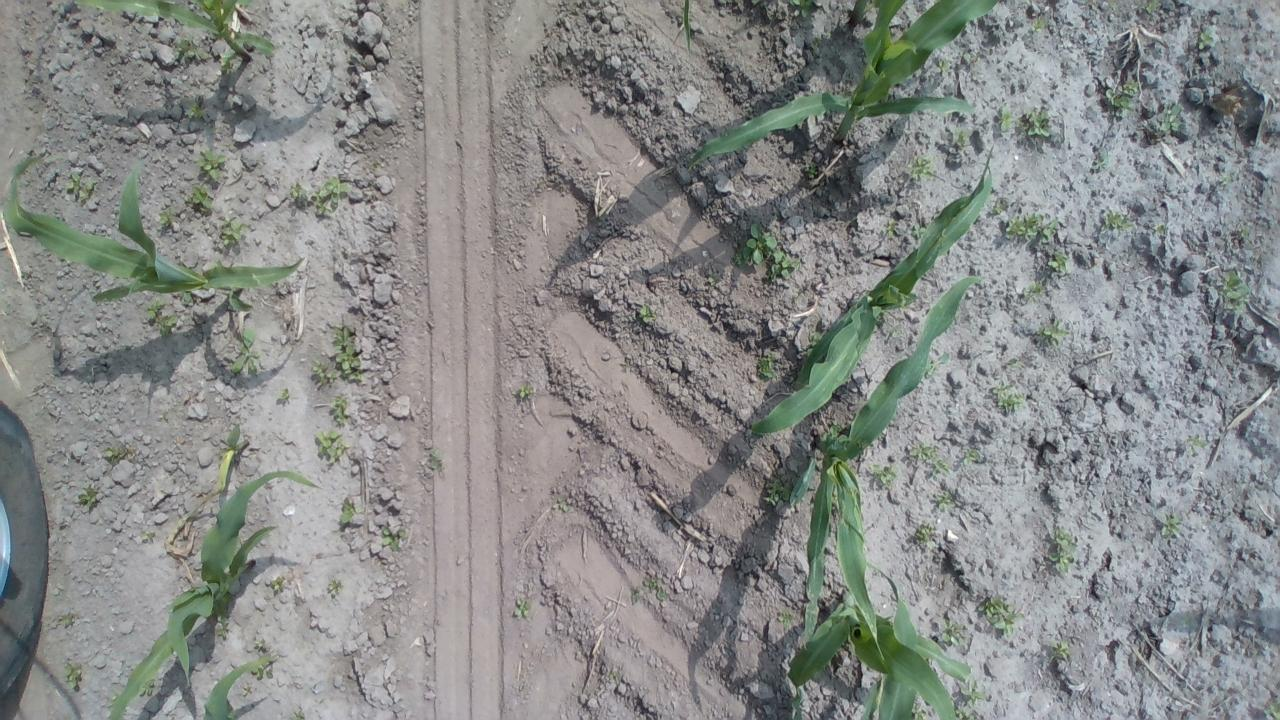Maize: (776, 273, 993, 664), (744, 147, 1002, 443), (100, 431, 338, 720), (682, 0, 1030, 186), (4, 147, 319, 317), (786, 594, 988, 720), (81, 0, 298, 71), (180, 652, 293, 720)
Weeds: (729, 219, 802, 284), (310, 326, 365, 390), (286, 174, 354, 216), (1206, 261, 1246, 316), (992, 105, 1054, 140), (1006, 212, 1064, 248), (980, 590, 1020, 636), (1042, 530, 1080, 576), (51, 168, 98, 205), (230, 328, 264, 376), (312, 431, 348, 473), (1096, 206, 1140, 238), (935, 612, 970, 652), (56, 654, 90, 694), (988, 378, 1026, 413), (196, 148, 230, 187), (208, 592, 234, 642), (143, 301, 180, 336), (325, 393, 358, 432), (1104, 81, 1140, 116), (186, 93, 222, 127), (633, 576, 672, 606), (378, 520, 407, 557), (102, 437, 135, 469), (764, 472, 794, 507), (1154, 101, 1184, 135), (904, 150, 938, 180), (170, 34, 204, 64), (338, 494, 364, 530), (185, 188, 218, 216), (946, 121, 974, 152), (250, 649, 276, 682), (870, 462, 899, 491), (1045, 320, 1070, 352), (220, 422, 242, 458), (218, 220, 246, 248), (1160, 514, 1185, 545), (1195, 23, 1223, 50), (78, 483, 104, 512), (634, 302, 662, 328), (772, 603, 796, 632), (936, 489, 966, 512), (266, 574, 292, 600), (756, 347, 774, 384), (322, 575, 346, 602), (904, 441, 938, 460), (702, 260, 728, 284), (153, 207, 180, 230), (1053, 636, 1072, 668), (958, 446, 982, 471), (912, 523, 939, 545), (948, 704, 984, 720), (787, 0, 816, 19), (1048, 249, 1068, 276), (1018, 279, 1046, 298), (963, 685, 987, 707), (931, 52, 952, 77), (989, 195, 1015, 215), (1138, 0, 1164, 20), (218, 50, 238, 75), (427, 448, 444, 477), (58, 613, 86, 630), (927, 353, 946, 378), (1024, 12, 1049, 31), (513, 594, 531, 620), (1186, 431, 1207, 453), (286, 701, 310, 720), (1263, 694, 1280, 720), (514, 382, 534, 404), (1088, 150, 1108, 172), (556, 496, 577, 516), (140, 673, 157, 697), (801, 160, 821, 180), (1236, 224, 1255, 244), (879, 216, 899, 235), (276, 385, 294, 406), (140, 528, 158, 546), (909, 223, 930, 238), (933, 460, 948, 479), (1154, 222, 1172, 237), (1219, 173, 1235, 187)
